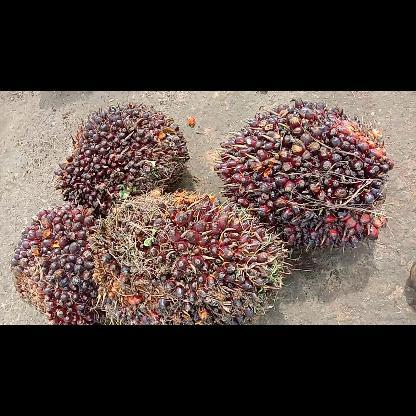Kurang masak: (89, 186, 291, 324), (214, 98, 394, 252), (53, 101, 189, 216), (11, 204, 106, 324)
